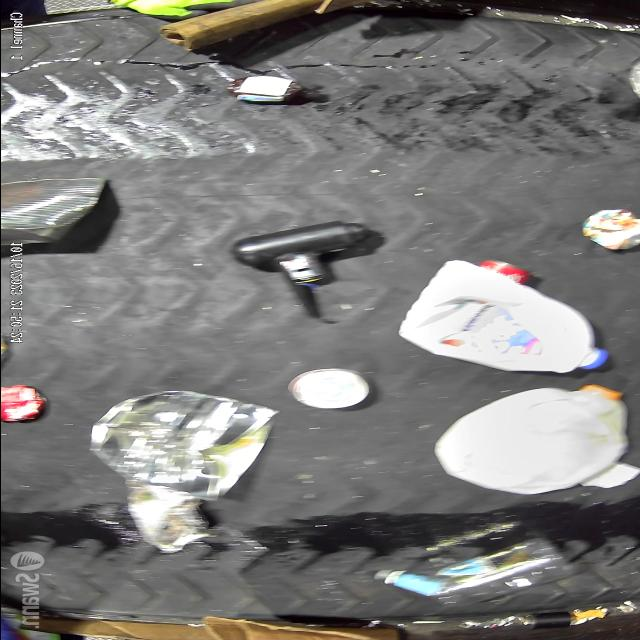can: (78, 388, 279, 502), (0, 174, 113, 249), (120, 479, 212, 557), (288, 368, 374, 410), (577, 207, 640, 253), (0, 383, 48, 424)
milk_jug: (396, 260, 608, 378), (427, 382, 631, 496)
